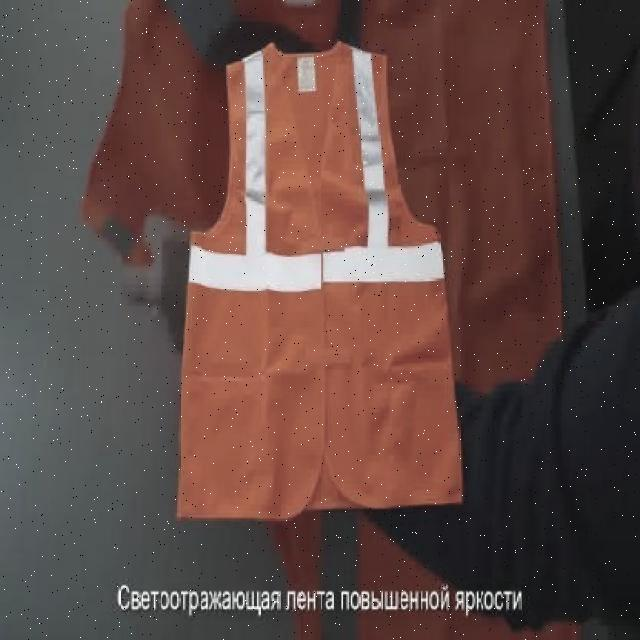Mask: (172, 41, 465, 532)
